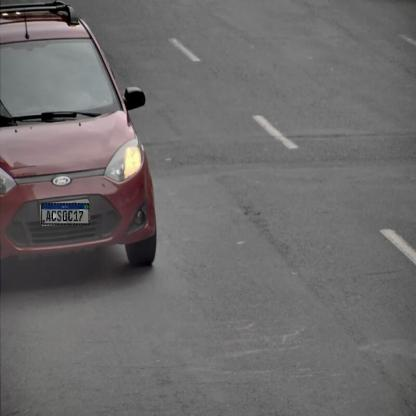PlacaM: (41, 203, 90, 225)
